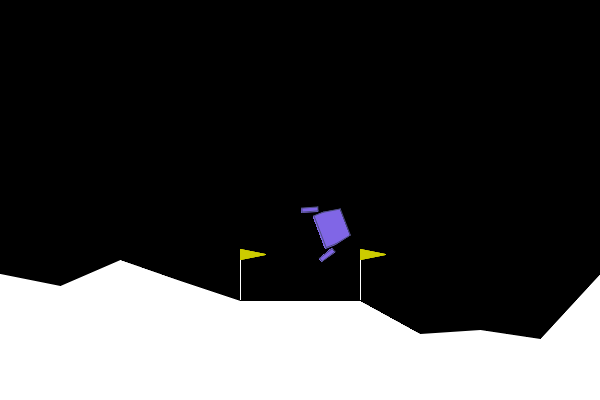lander: (299, 194, 358, 264)
